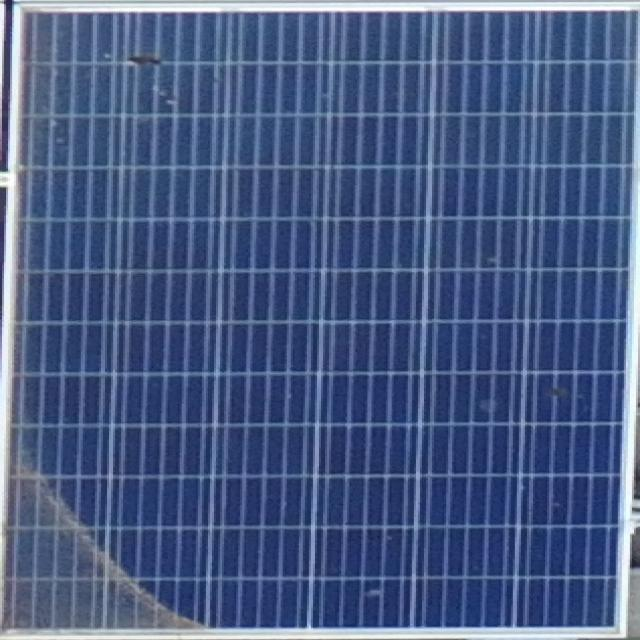Dust: (9, 442, 215, 640), (18, 8, 70, 182)
bird-droppings: (106, 48, 172, 72), (351, 582, 391, 599)
